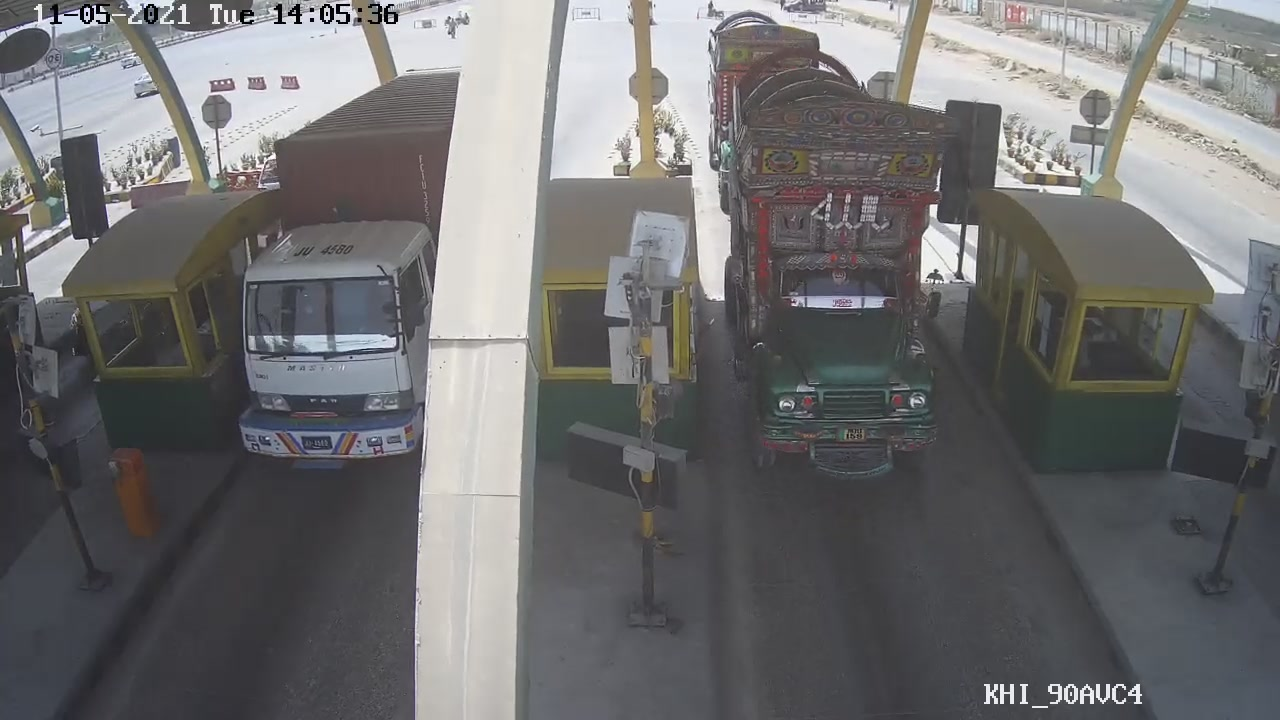F5: (709, 56, 959, 492)
